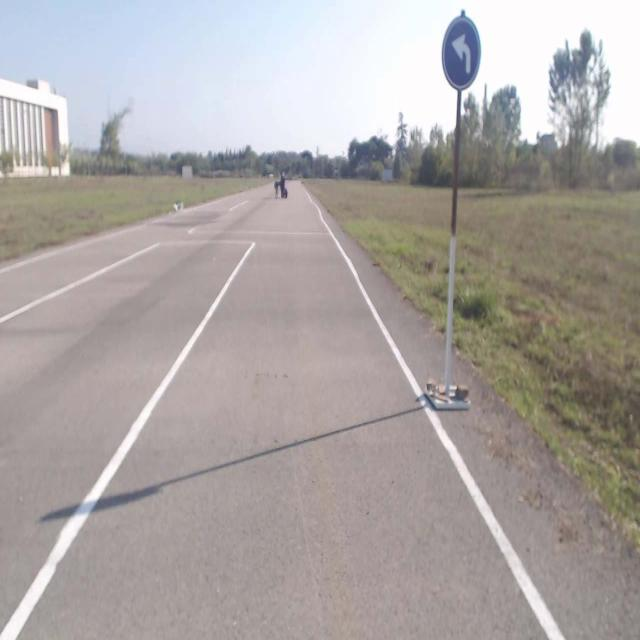sol: (442, 15, 480, 89)
